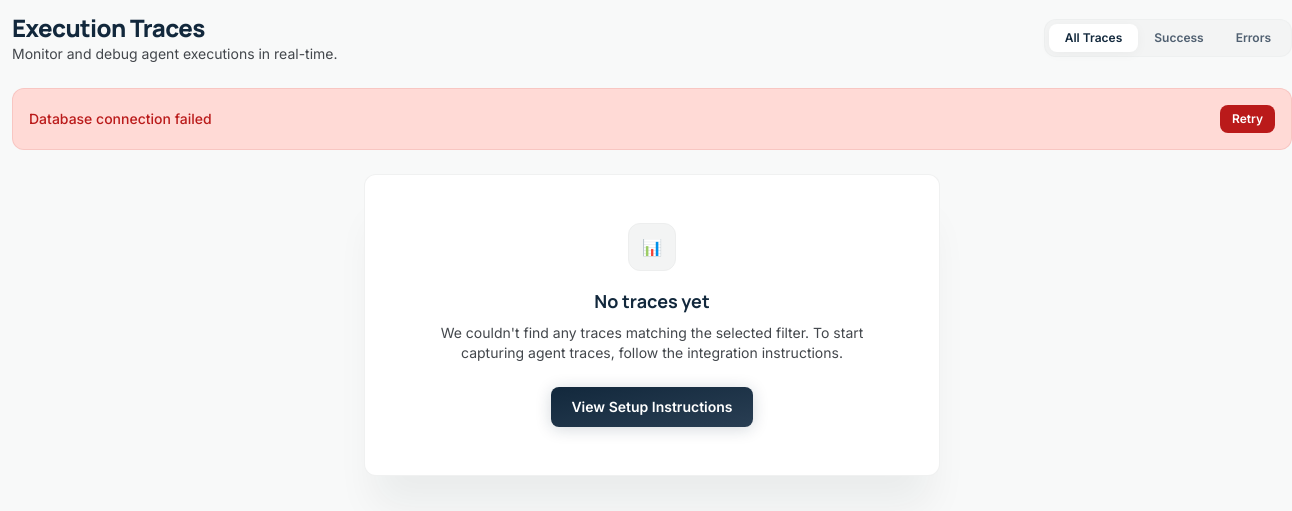
Scenario: TraceList Component › renders an error banner when api fetch fails and retries on click
Expected: the text "Database connection failed" is shown, [29, 109, 212, 129]
Click the button "Retry": point(1248, 119) [1220, 105, 1275, 133]
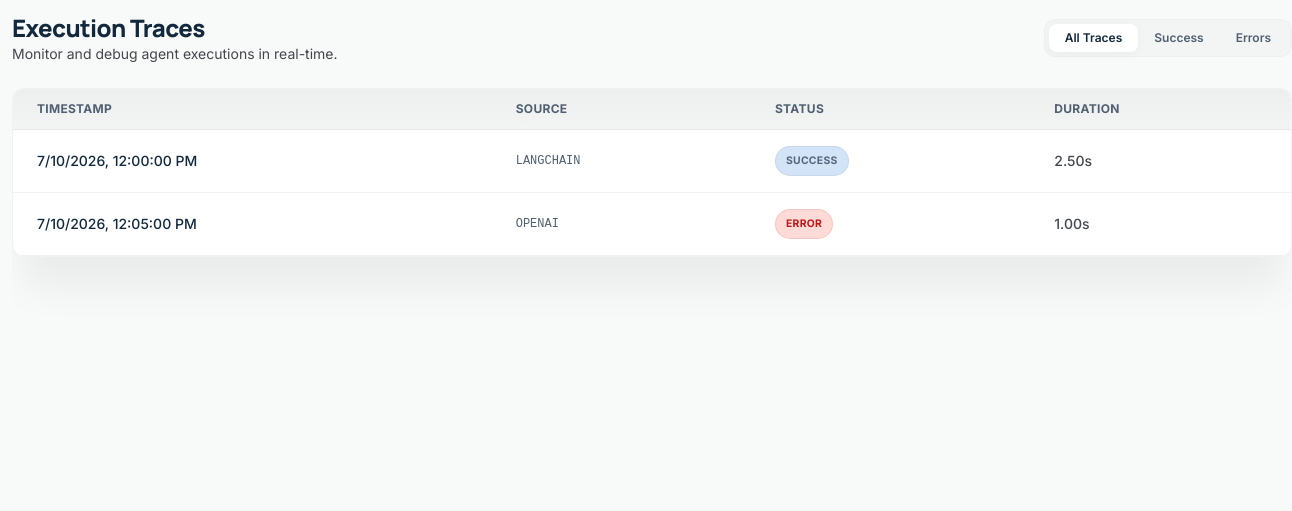
Result: the text "langchain" is shown at [492, 130, 751, 192]
